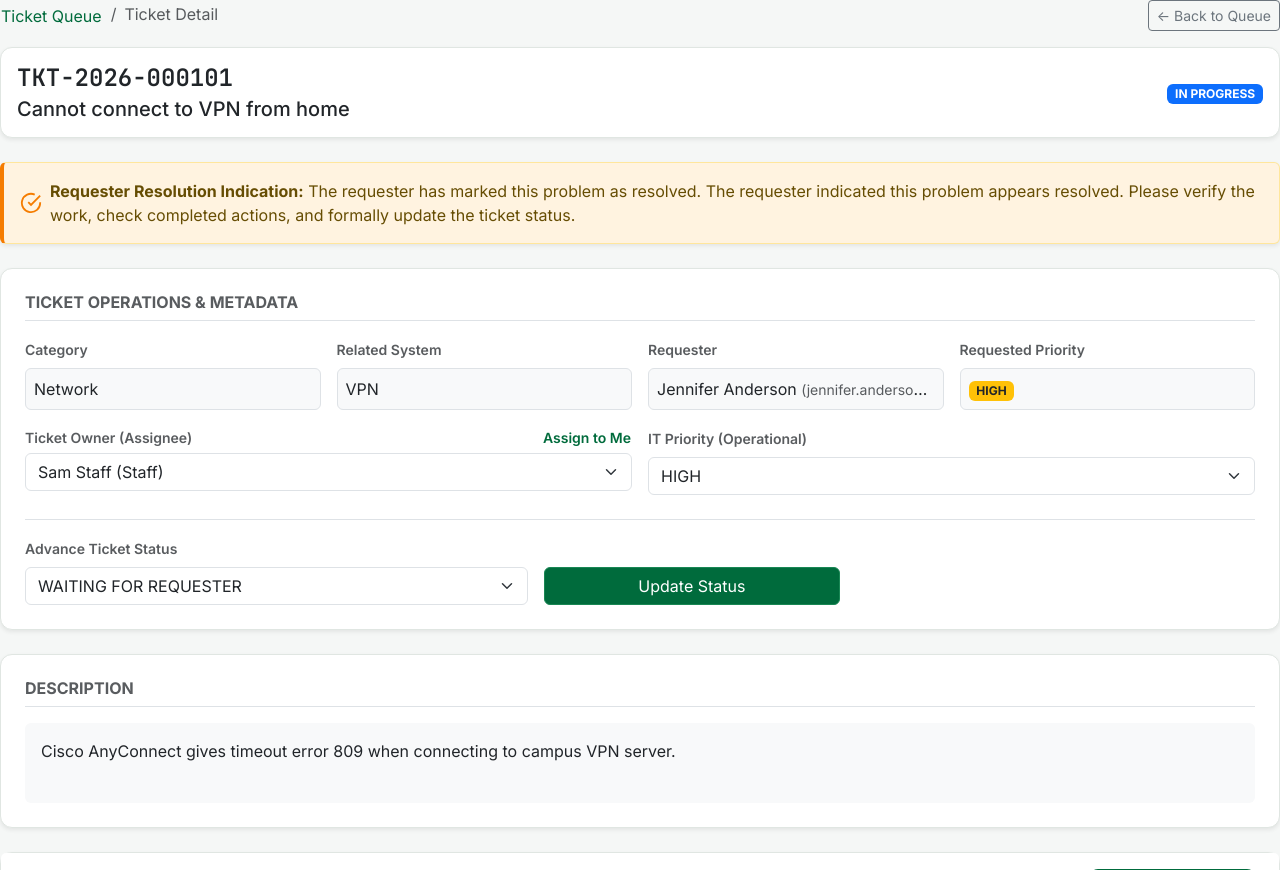
StaffTicketDetail Component Tests (UI-04, UI-05) › UI-04: Staff Ticket Detail Actions & Operational Controls (AC-08, AC-09, AC-10) › allows independent IT Priority update (AC-09, API-15)
The width and height of the screenshot is (1280, 870).
Select "URGENT" in the dropdown with test id "it-priority-select" at (952, 476), box [648, 457, 1255, 495]
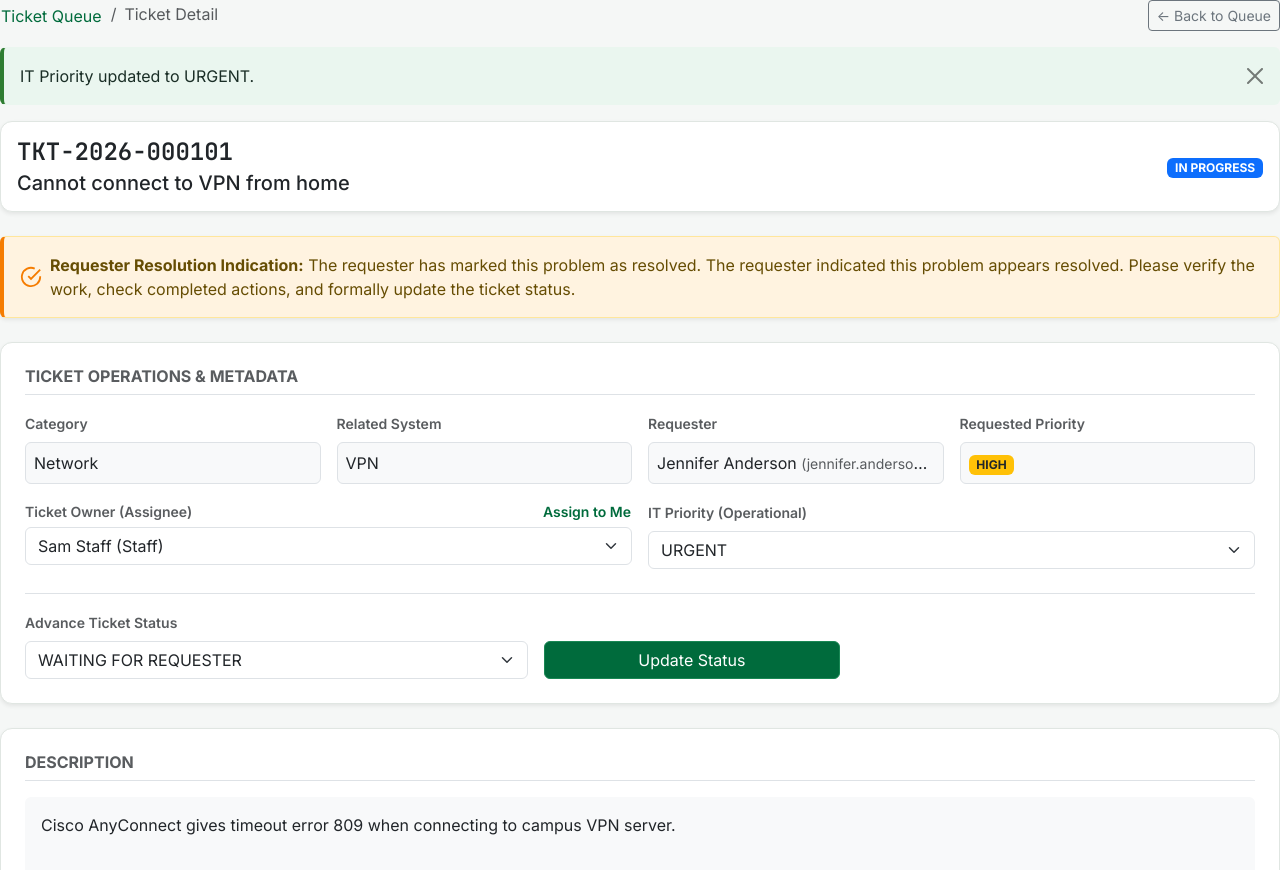
Expected: the message with test id "success-banner" shows "IT Priority updated to URGENT", [20, 66, 254, 86]
